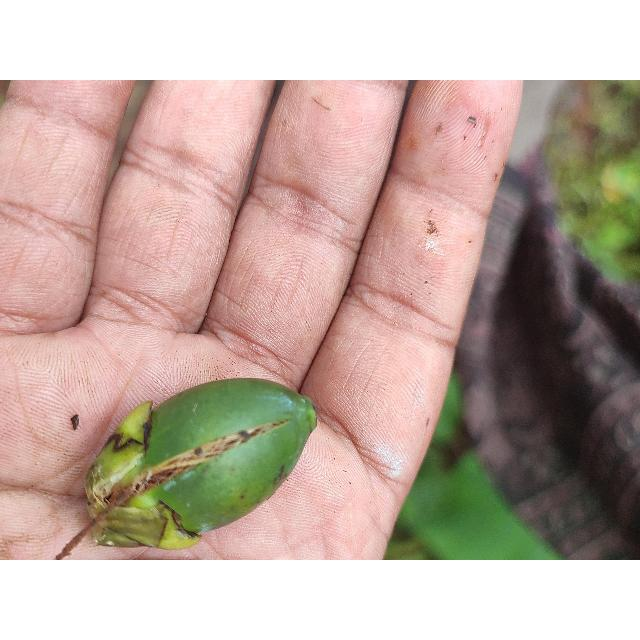damaged: (84, 379, 319, 551)
